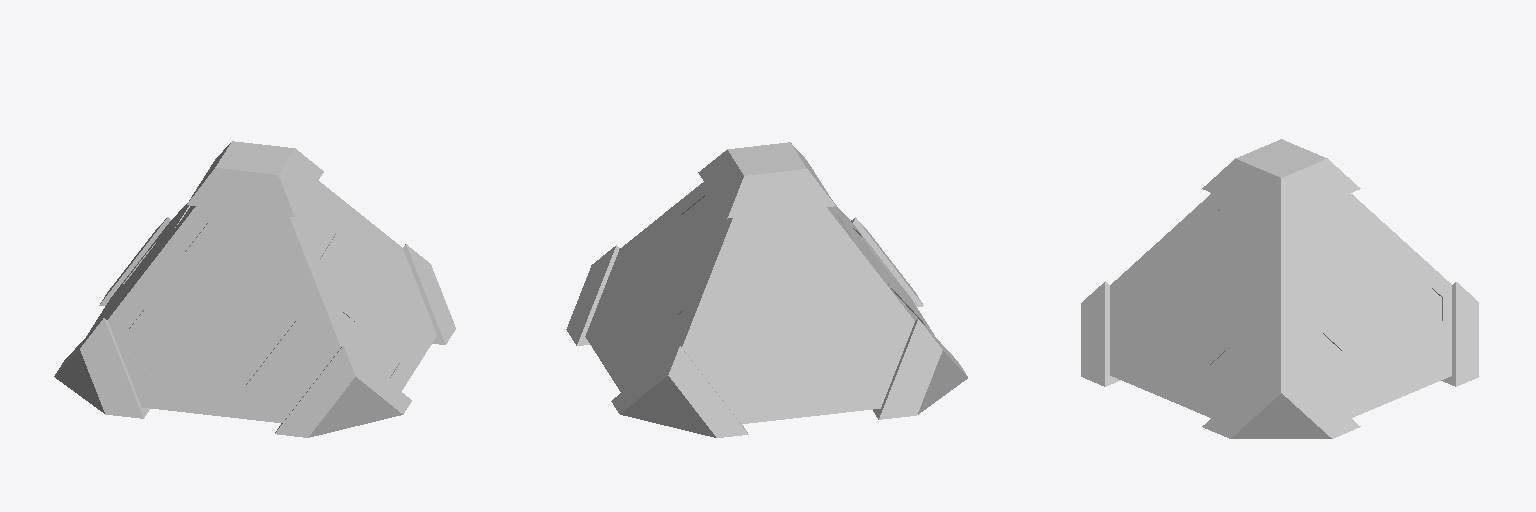
File: Nitro.obj
3 views of the same model, side by side, from view 1: azimuth 30°, elevation 25°; view 2: azimuth 150°, elevation 25°; view 3: azimuth 270°, elevation 25° (orthographic).
Visible parts, largest first — view 1: nitro:pPyramid46; view 2: nitro:pPyramid46; view 3: nitro:pPyramid46.
Part boxes in pixels (left/top/right/bottom): nitro:pPyramid46: left=54, top=141, right=455, bottom=437; nitro:pPyramid46: left=566, top=142, right=967, bottom=437; nitro:pPyramid46: left=1081, top=139, right=1478, bottom=438.
Bounding box in the file's own units: 2.46 × 1.31 × 2.42.